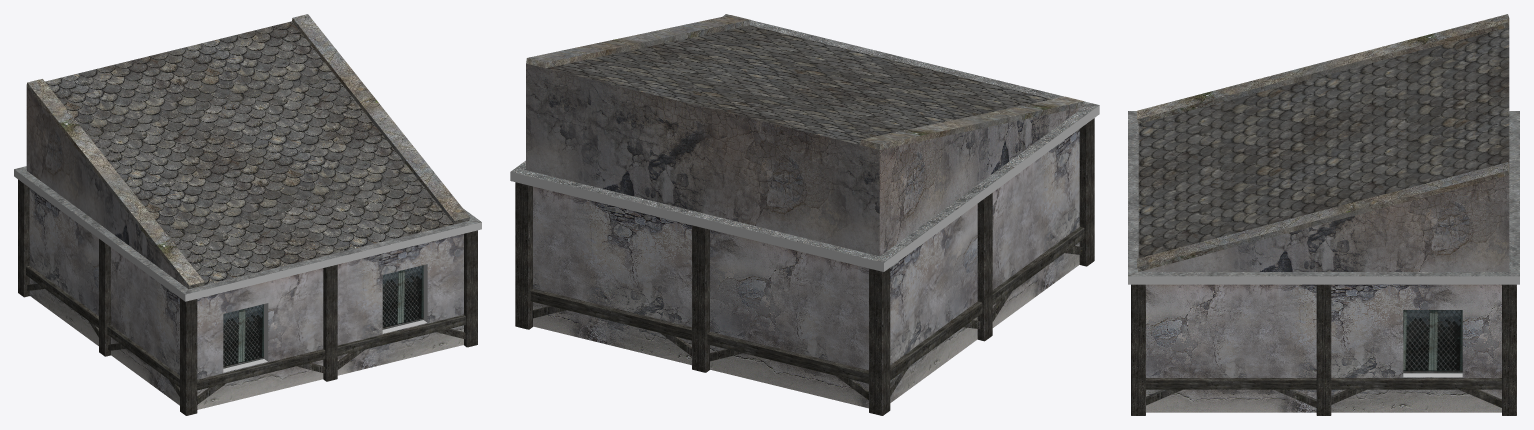
File: Building_Roof_08.fbx
3 views of the same model, side by side, from view 1: azimuth 30°, elevation 25°; view 2: azimuth 150°, elevation 25°; view 3: azimuth 270°, elevation 25° (orthographic). The views are drawn at different scales.
Visible parts, largest first — view 1: Building_Roof_08; view 2: Building_Roof_08; view 3: Building_Roof_08.
Part boxes in pixels (box(x1,y1,x2,y2)): Building_Roof_08: box(14, 14, 481, 415); Building_Roof_08: box(510, 14, 1099, 415); Building_Roof_08: box(1128, 14, 1519, 415).
Size of the model in its own units: 528 by 360 by 528.
